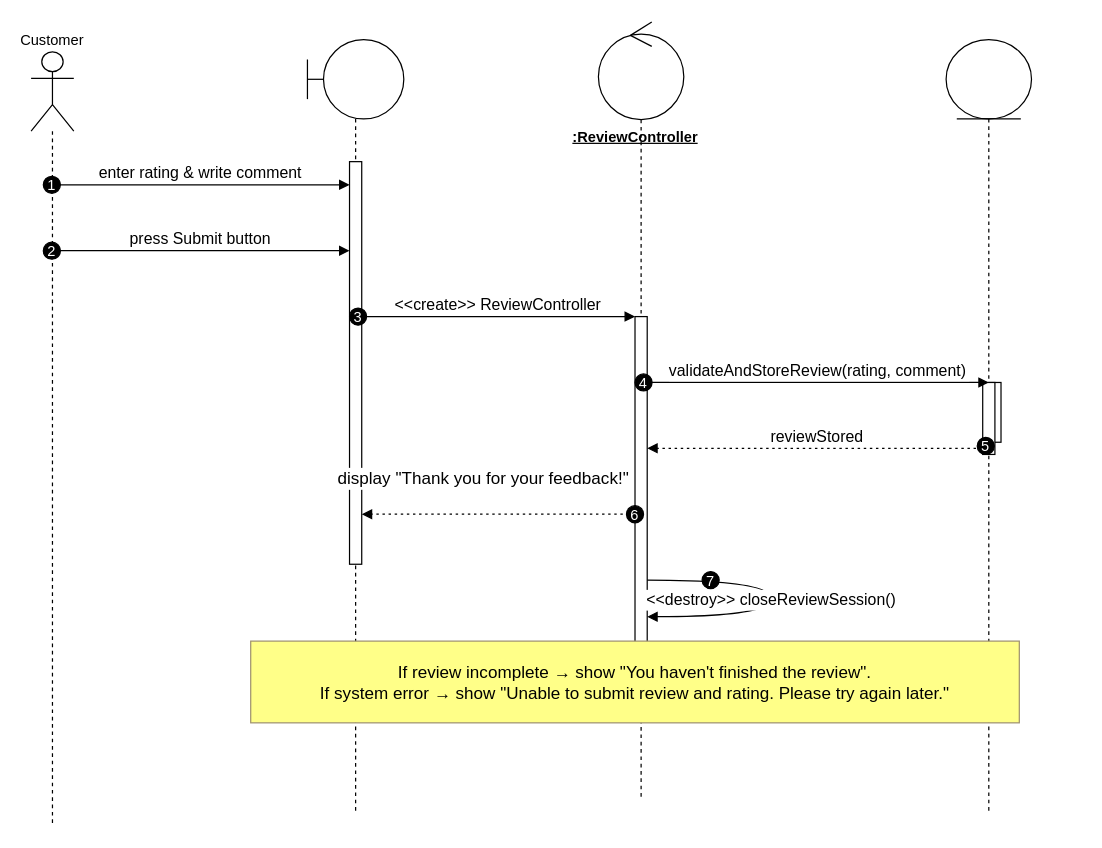
Some shapes in this 1102 by 848 pixel diagram are drawn without their labels. The box of each missing label's shape, as (x1, y1, x2, y2) in pixels:
:ReviewPageView: (306, 38, 404, 814)
:Reviews: (945, 38, 1032, 814)
